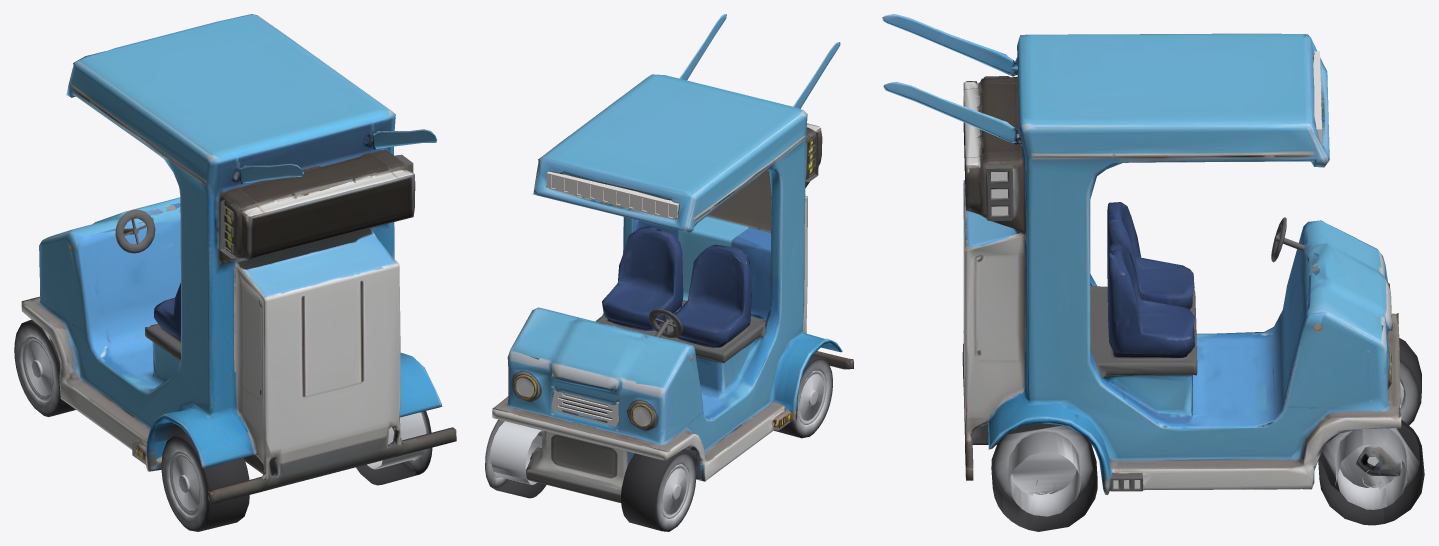
Rendered from airport_car.glb.
The picture shows the model from 3 angles, left to right: view 1: azimuth 30°, elevation 25°; view 2: azimuth 150°, elevation 25°; view 3: azimuth 270°, elevation 25°; orthographic projection. The views are drawn at different scales.
Visible parts, largest first — view 1: Body, Wheel_2, Wheel_0, Wheel_3; view 2: Body, Wheel_0, Wheel_1, Wheel_2; view 3: Body, Wheel_3, Wheel_1, Wheel_0.
Part boxes in pixels (x1,y1,x2,y2): Body: (21, 14, 456, 504); Wheel_2: (161, 432, 249, 531); Wheel_0: (14, 319, 75, 416); Wheel_3: (356, 411, 432, 485); Body: (492, 14, 853, 502); Wheel_0: (621, 450, 696, 531); Wheel_1: (485, 419, 546, 498); Wheel_2: (774, 355, 832, 438); Body: (882, 14, 1401, 494); Wheel_3: (991, 423, 1097, 531); Wheel_1: (1318, 419, 1424, 525); Wheel_0: (1399, 338, 1421, 425).
Bounding box in the file's own units: 1.68 × 2.64 × 3.03.
6 materials, 1 textured.
